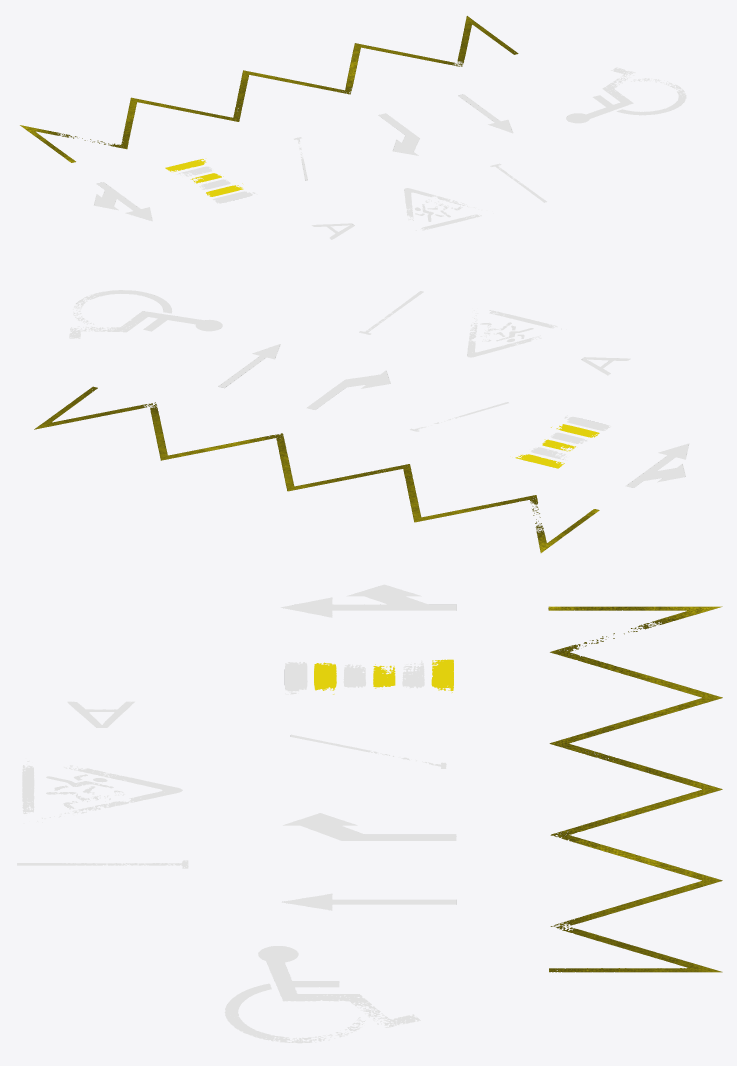
The model's file is Signs.fbx.
The picture shows the model from 3 angles, top to bottom: view 1: azimuth 30°, elevation 25°; view 2: azimuth 150°, elevation 25°; view 3: azimuth 270°, elevation 25°; orthographic projection. The views are drawn at different scales.
Visible parts, largest first — view 1: Crossing, Driving_machine, Crossing1, Run, Straight_and_turn, Take_turn, Arrow; view 2: Crossing, Driving_machine, Crossing1, Run, Straight_and_turn, Take_turn, Arrow; view 3: Crossing, Driving_machine, Crossing1, Run, Straight_and_turn, Take_turn, Arrow.
Part boxes in pixels (x1=…): Crossing: x1=20, y1=16, x2=518, y2=162; Driving_machine: x1=566, y1=67, x2=686, y2=123; Crossing1: x1=165, y1=159, x2=257, y2=203; Run: x1=404, y1=188, x2=493, y2=230; Straight_and_turn: x1=93, y1=182, x2=152, y2=221; Take_turn: x1=378, y1=113, x2=419, y2=155; Arrow: x1=458, y1=94, x2=513, y2=133; Crossing: x1=34, y1=386, x2=599, y2=552; Driving_machine: x1=69, y1=290, x2=222, y2=338; Crossing1: x1=515, y1=415, x2=610, y2=468; Run: x1=467, y1=310, x2=566, y2=357; Straight_and_turn: x1=626, y1=443, x2=689, y2=487; Take_turn: x1=307, y1=370, x2=390, y2=409; Arrow: x1=218, y1=344, x2=280, y2=388; Crossing: x1=548, y1=606, x2=722, y2=972; Driving_machine: x1=224, y1=946, x2=420, y2=1043; Crossing1: x1=284, y1=659, x2=453, y2=694; Run: x1=22, y1=760, x2=182, y2=823; Straight_and_turn: x1=281, y1=584, x2=456, y2=617; Take_turn: x1=283, y1=813, x2=456, y2=840; Arrow: x1=281, y1=893, x2=456, y2=910.
Size of the model in its own units: 1250 by 4.89e-05 by 800.
1 material, 1 textured.
